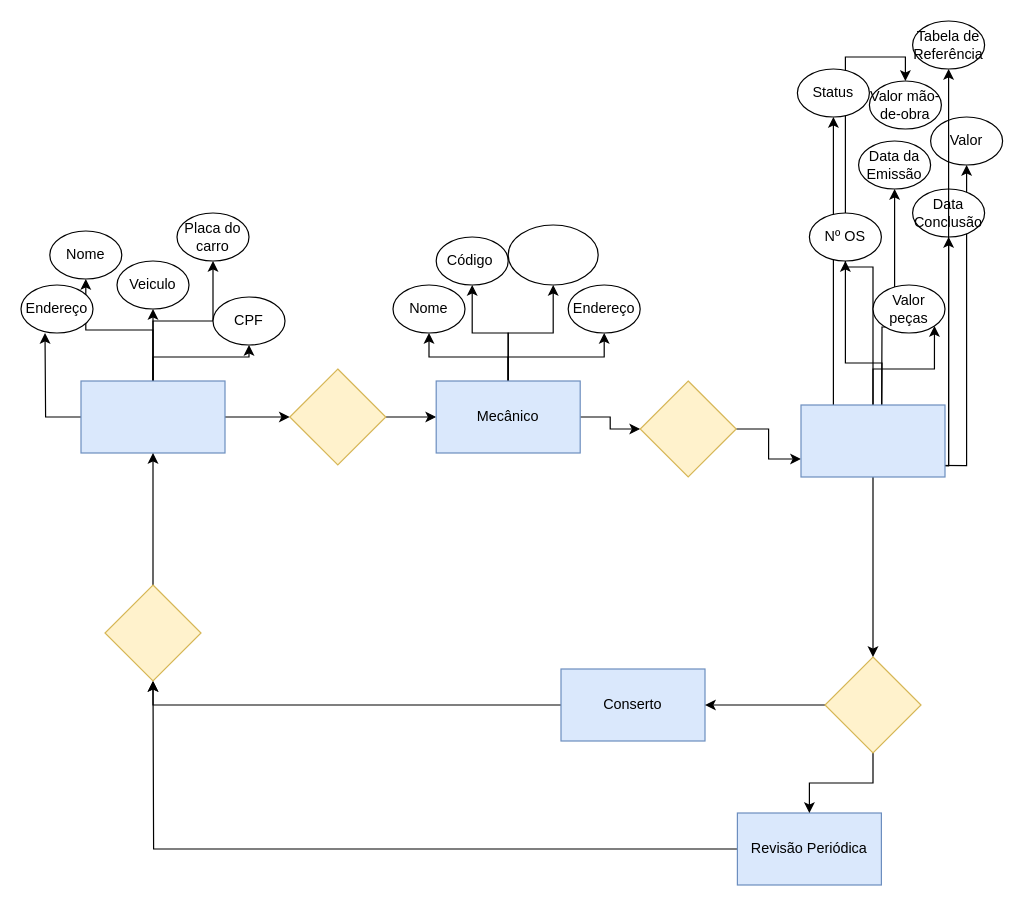
Some shapes in this 1024 by 906 pixel diagram are drawn without their labels. Each missing label, with the centre of its shape:
"Autoriza" goes at pixel 152 632.
"Avalia" goes at pixel 337 416.
"Cliente" goes at pixel 152 416.
"Especialidade" goes at pixel 552 254.
"Executa" goes at pixel 872 704.
"Ordem de serviço" goes at pixel 872 440.
"Preenche" goes at pixel 687 428.
